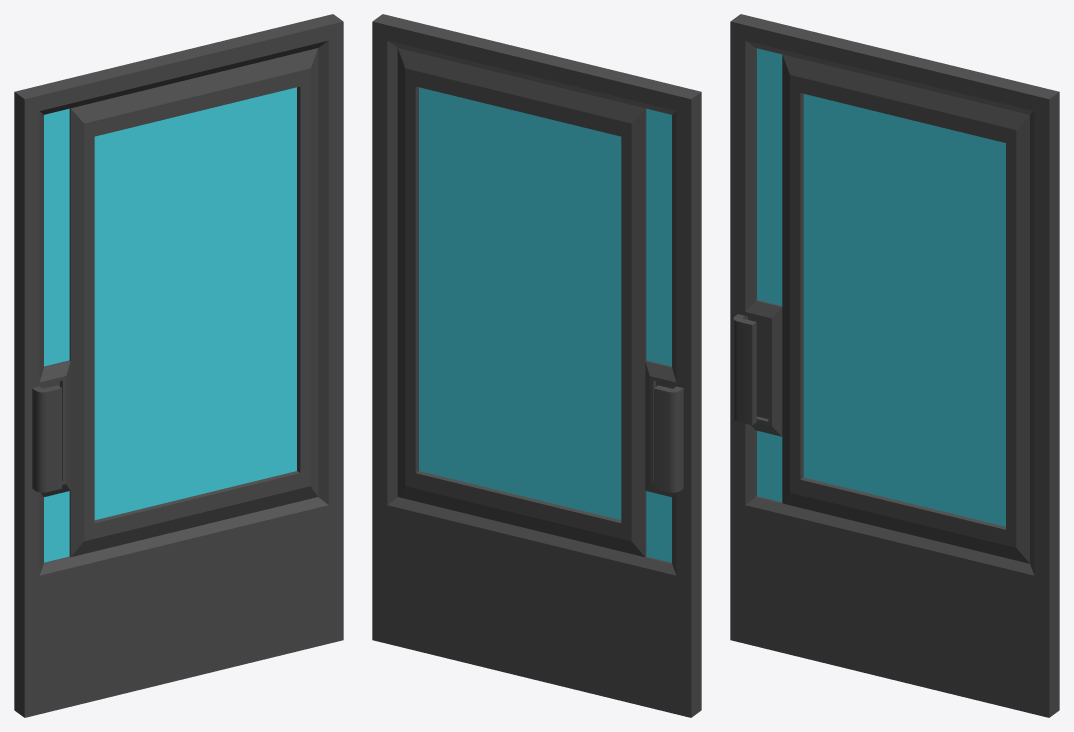
File: SM_Buildings_Commercial_11_Door_R.fbx
The picture shows the model from 3 angles, left to right: view 1: azimuth 30°, elevation 25°; view 2: azimuth 150°, elevation 25°; view 3: azimuth 330°, elevation 25°; orthographic projection.
Visible parts, largest first — view 1: SM_Buildings_Commercial_11_Door_R; view 2: SM_Buildings_Commercial_11_Door_R; view 3: SM_Buildings_Commercial_11_Door_R.
Boxes of the visible parts, x1,y1,x2,y2 form: SM_Buildings_Commercial_11_Door_R: [14, 14, 343, 717]; SM_Buildings_Commercial_11_Door_R: [372, 14, 701, 717]; SM_Buildings_Commercial_11_Door_R: [730, 14, 1059, 717].
Size of the model in its own units: 1.08 by 1.99 by 0.15.
